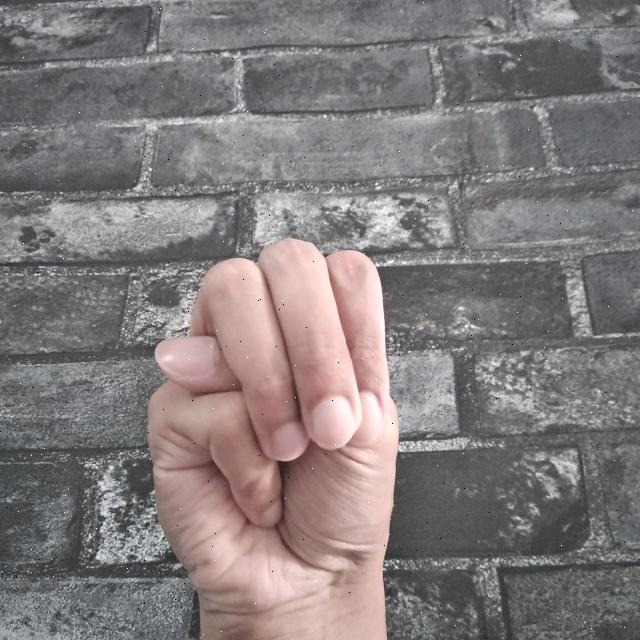M: (136, 232, 417, 640)
